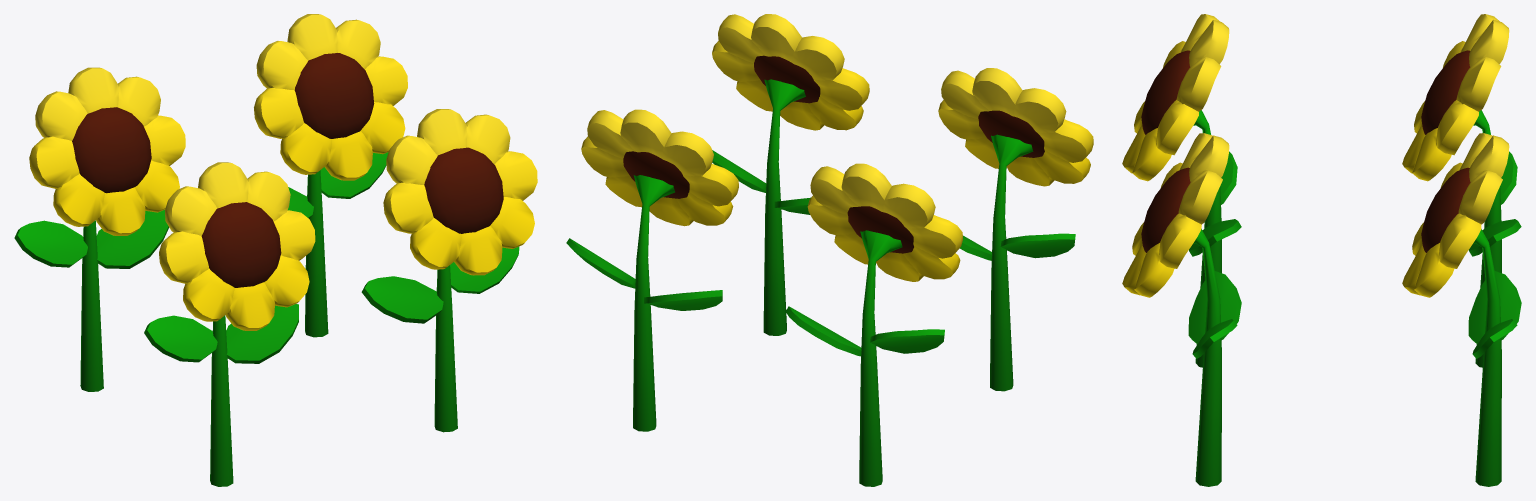
The model's file is Farm_Crop_Sunflower_Step_03.glb.
The picture shows the model from 3 angles, left to right: view 1: azimuth 30°, elevation 25°; view 2: azimuth 150°, elevation 25°; view 3: azimuth 270°, elevation 25°; orthographic projection. The views are drawn at different scales.
Parts seen in each view (by area): view 1: Farm_Crop_Sunflower_Step_03; view 2: Farm_Crop_Sunflower_Step_03; view 3: Farm_Crop_Sunflower_Step_03.
Part boxes in pixels (x1=…): Farm_Crop_Sunflower_Step_03: x1=14, y1=14, x2=537, y2=486; Farm_Crop_Sunflower_Step_03: x1=566, y1=14, x2=1093, y2=486; Farm_Crop_Sunflower_Step_03: x1=1122, y1=14, x2=1521, y2=486.
Bounding box in the file's own units: 1.67 × 1.35 × 1.43.
Materials: 1 (1 with a texture image).
